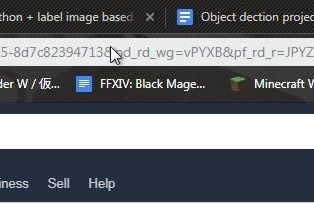cursor: (108, 45, 123, 66)
